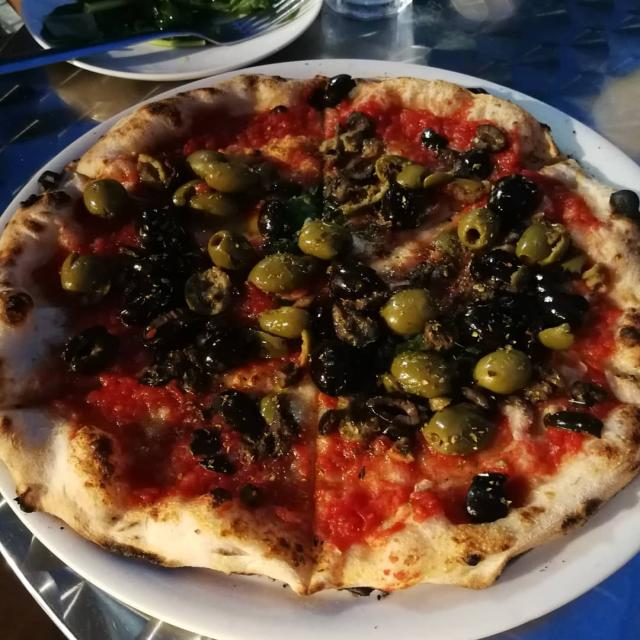black_olives: (306, 345, 381, 396), (140, 345, 209, 394), (62, 324, 125, 373), (198, 329, 266, 372), (488, 172, 544, 224), (134, 206, 197, 248), (465, 467, 508, 523), (216, 388, 269, 433), (364, 392, 427, 428), (534, 294, 592, 333), (115, 290, 167, 332), (330, 261, 385, 300), (514, 262, 573, 298), (468, 248, 519, 286), (548, 409, 608, 439), (381, 189, 424, 229), (450, 144, 494, 179), (121, 256, 165, 288), (258, 197, 291, 237), (472, 123, 508, 155), (160, 248, 207, 270), (310, 304, 334, 342), (420, 128, 447, 150)
green_olives: (387, 342, 463, 405), (427, 398, 499, 452), (371, 153, 459, 195), (468, 350, 539, 396), (379, 285, 436, 339), (249, 250, 314, 296), (180, 266, 239, 316), (56, 249, 118, 295), (188, 147, 254, 190), (456, 206, 508, 254), (169, 180, 236, 216), (296, 218, 351, 260), (518, 223, 568, 269), (83, 176, 131, 223), (209, 227, 251, 270), (261, 305, 313, 336), (533, 319, 582, 350)
pizza: (0, 73, 640, 597)
